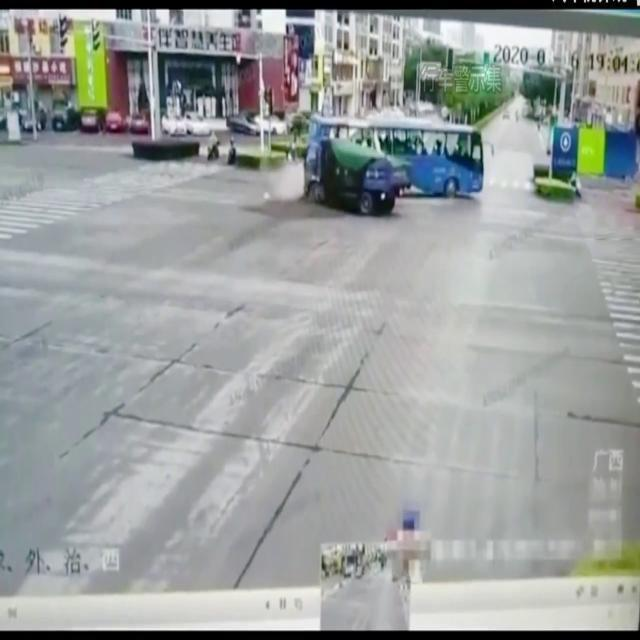accident: (304, 110, 486, 220)
non-accident: (2, 92, 304, 140), (206, 131, 238, 169)
